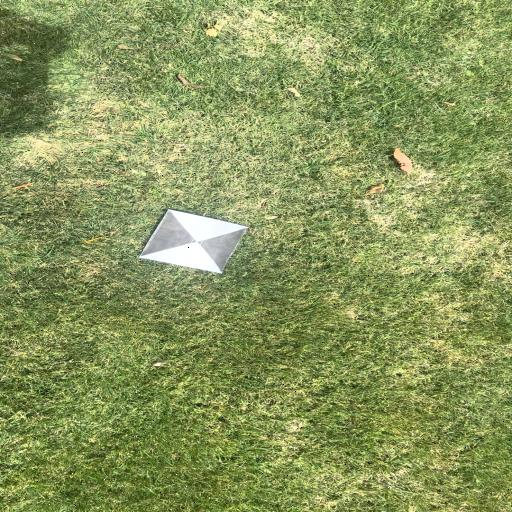target: (139, 209, 248, 273)
